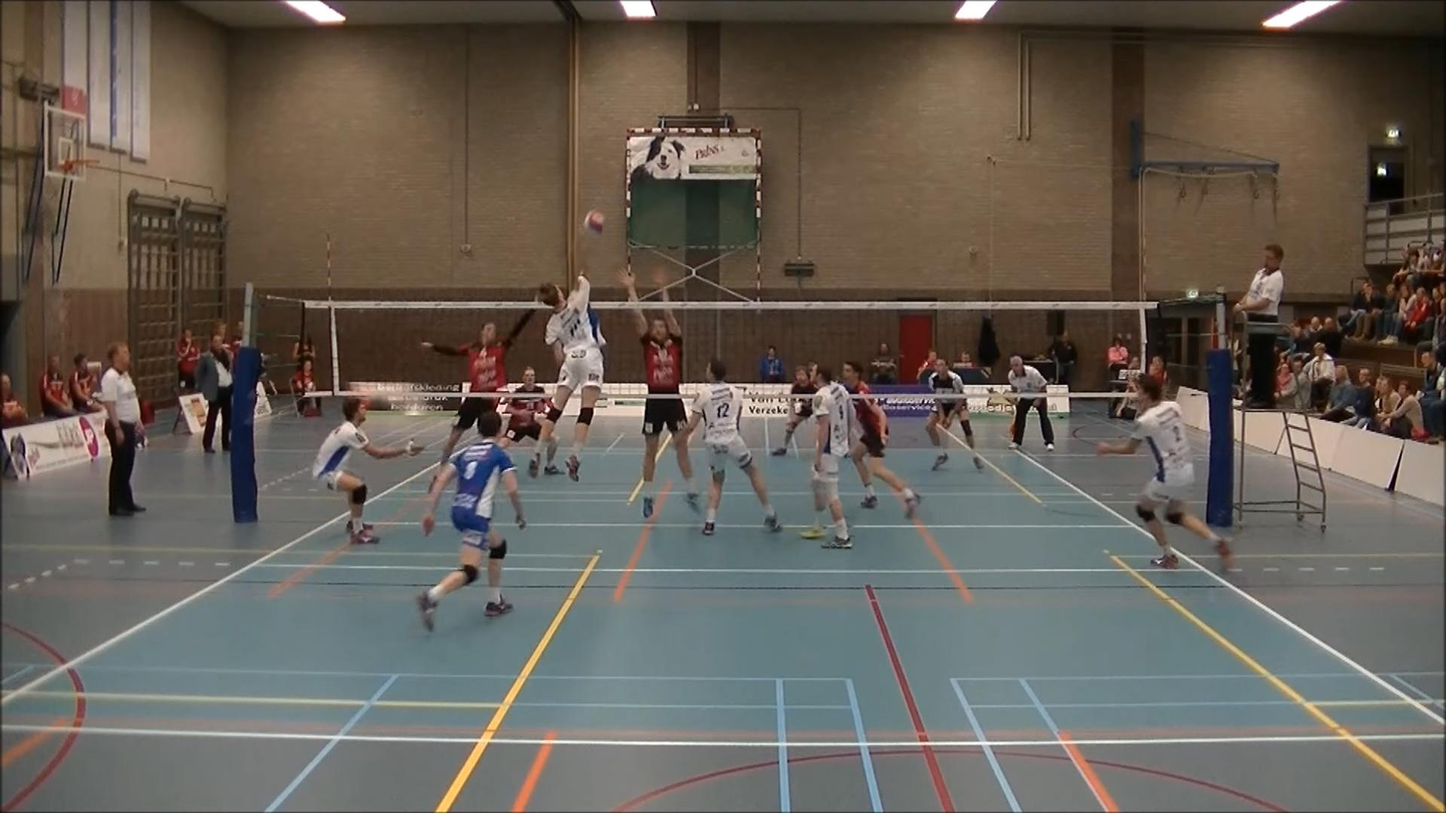Attack: (524, 257, 606, 481)
Block: (410, 259, 545, 452), (618, 263, 703, 522)
Player: (1097, 374, 1231, 568), (417, 411, 525, 630), (312, 397, 424, 544), (688, 359, 781, 534), (842, 362, 920, 516), (801, 366, 855, 548), (926, 358, 975, 470), (499, 367, 551, 448), (772, 364, 817, 455)
ball: (581, 206, 609, 239)
